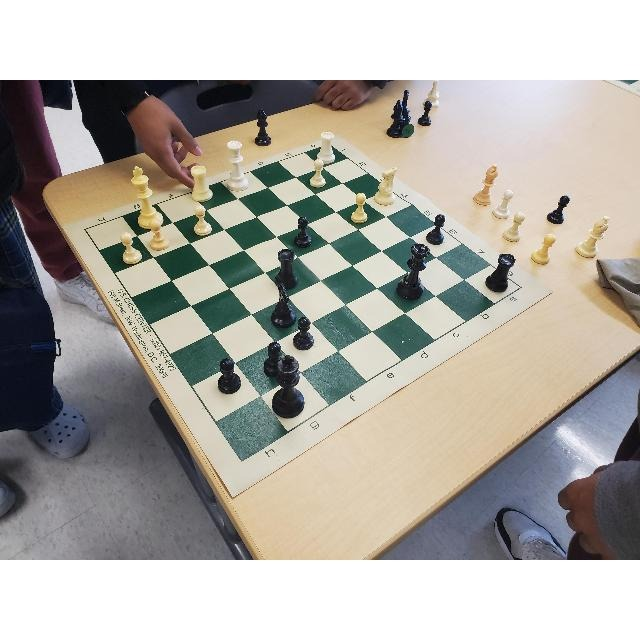black-king: (271, 354, 305, 419)
black-knight: (269, 282, 297, 330)
black-pawn: (216, 356, 242, 395), (291, 313, 314, 351), (290, 213, 313, 248), (424, 212, 445, 246)
black-queen: (395, 243, 429, 303)
black-rook: (485, 252, 517, 294), (274, 247, 298, 290)
white-king: (131, 166, 164, 230)
white-knight: (374, 165, 397, 206)
white-pawn: (117, 233, 143, 267), (149, 218, 169, 252), (194, 204, 214, 236), (309, 157, 326, 188), (351, 192, 367, 224)
white-queen: (224, 140, 249, 192)
white-rook: (317, 131, 337, 164)
